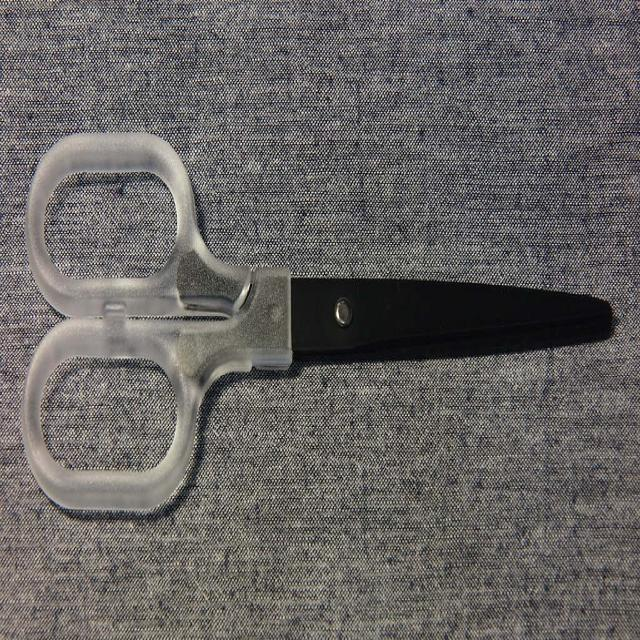scissors: (19, 128, 613, 516)
